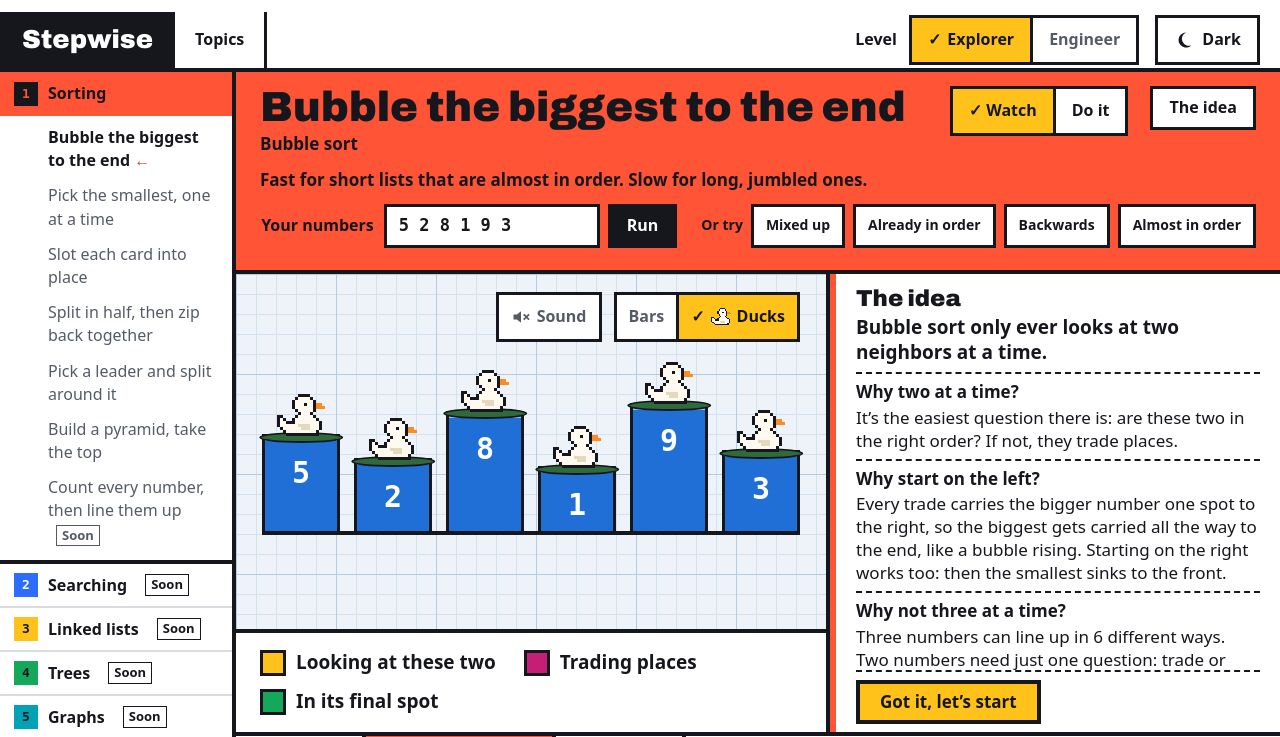
welcome screen › opens from the logo even when a level is saved
Click the link "Stepwise".
click(88, 40)  # box [0,12,175,68]
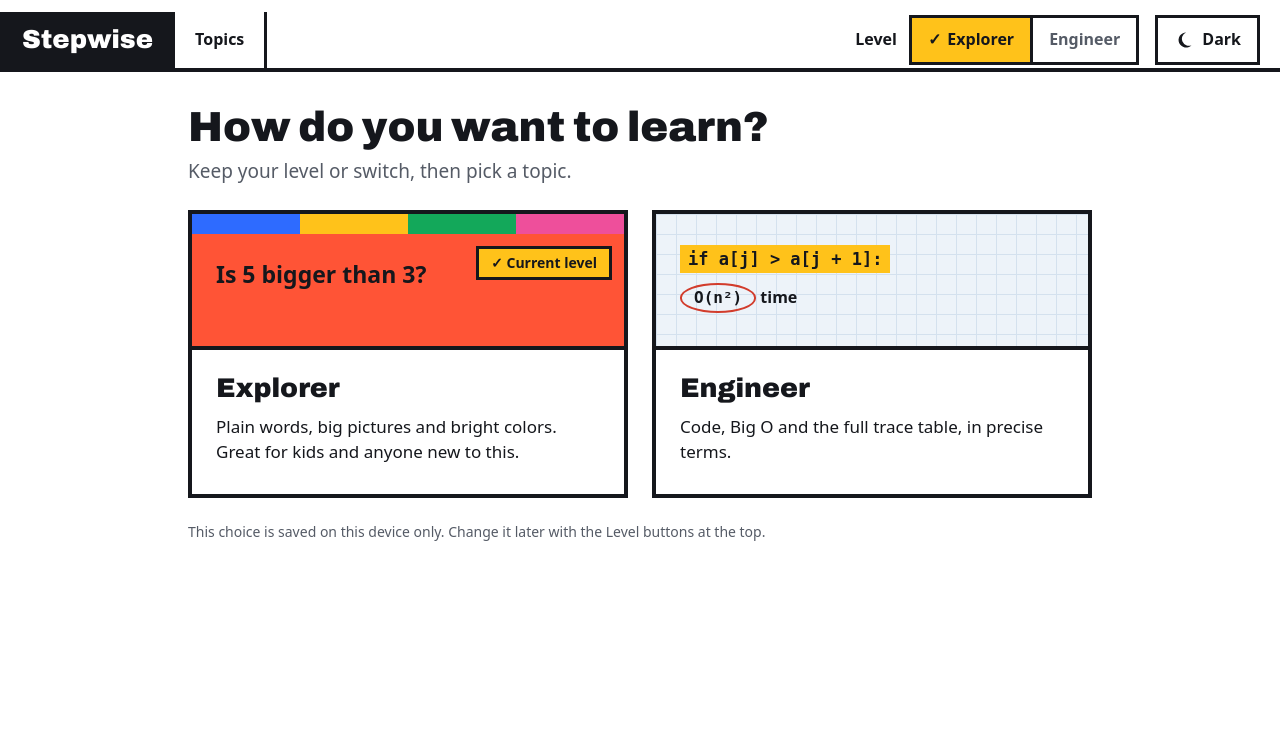
Now the heading "How do you want to learn?" is shown, box [188,104,769,150]
